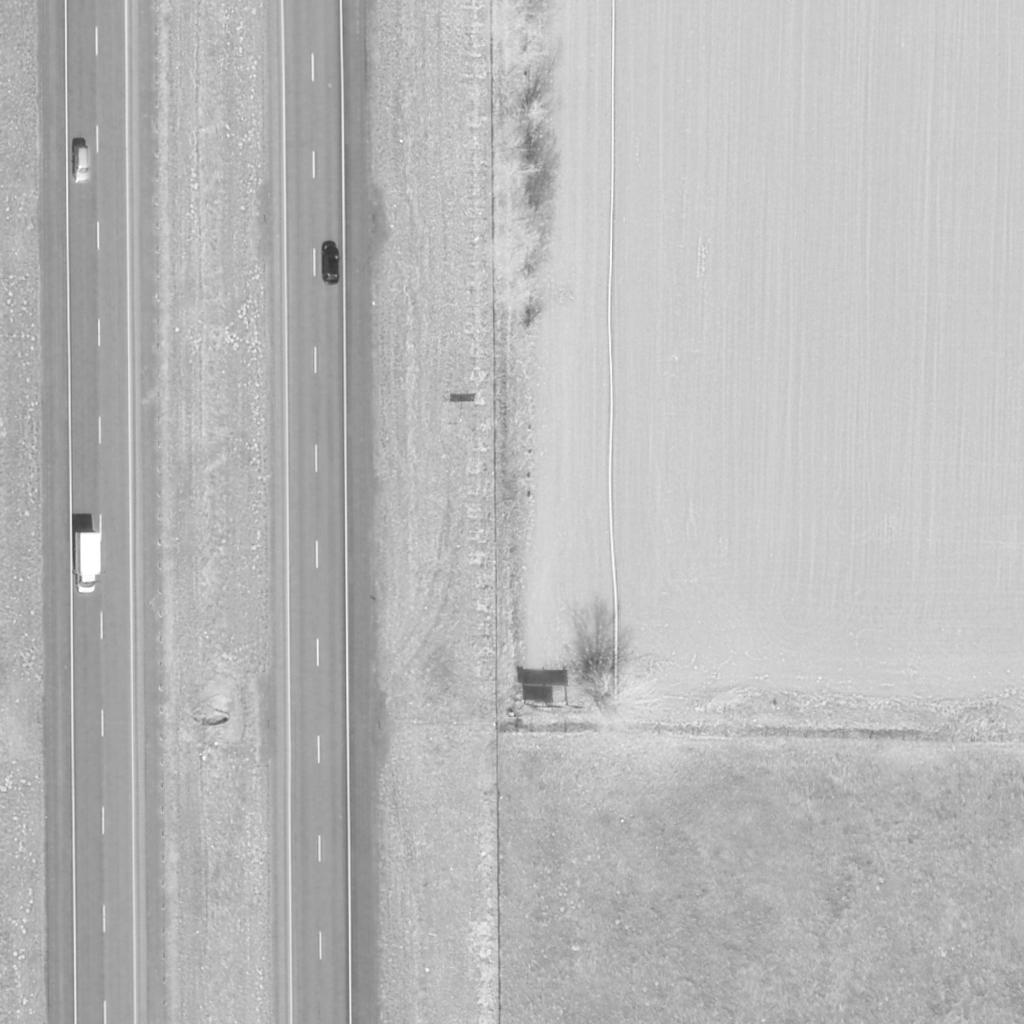vehicle: (74, 531, 102, 595), (322, 243, 340, 287), (74, 145, 90, 183)
